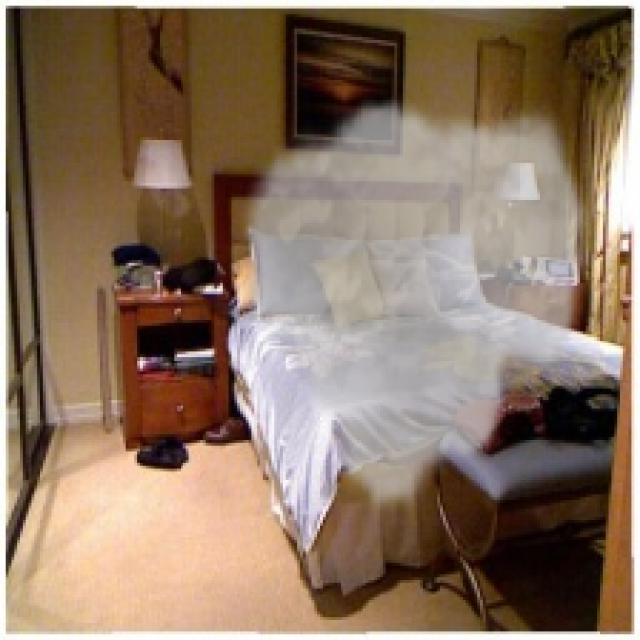smoke: (232, 94, 594, 517)
